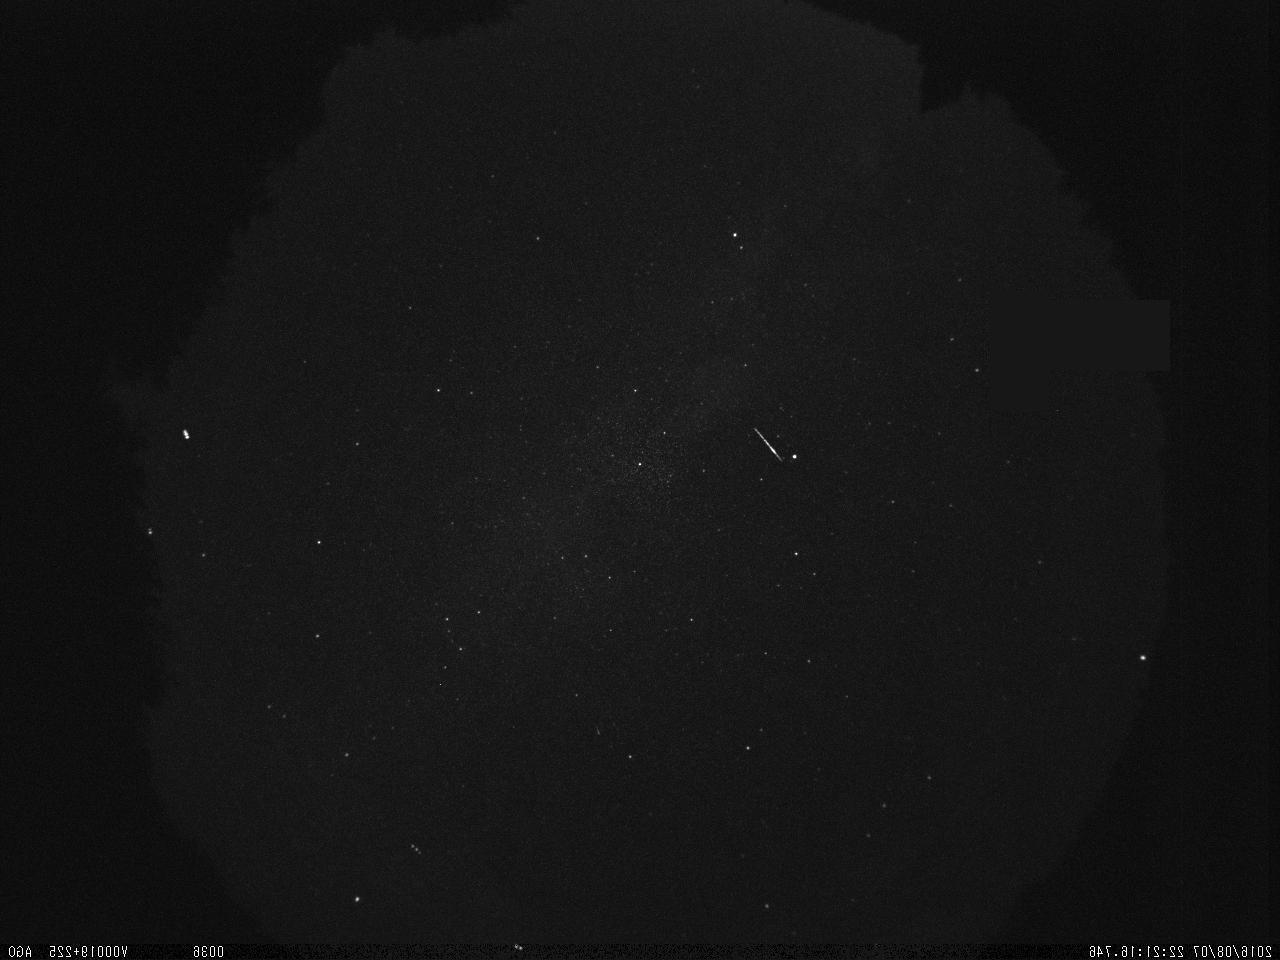meteor: (749, 420, 787, 463)
